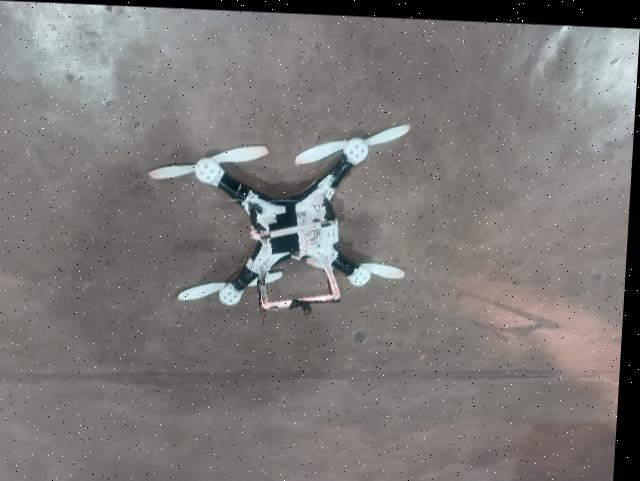drone: (124, 92, 423, 329)
